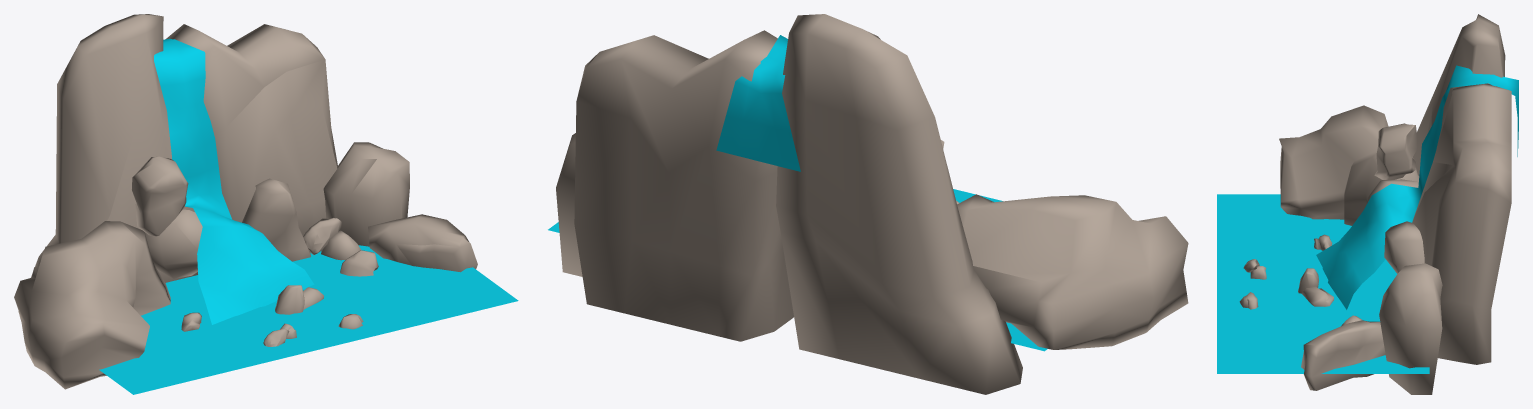
The model's file is inside_cave_water.fbx.
3 views of the same model, side by side, from view 1: azimuth 30°, elevation 25°; view 2: azimuth 150°, elevation 25°; view 3: azimuth 270°, elevation 25° (orthographic). The views are drawn at different scales.
Parts seen in each view (by area): view 1: polySurface3103, pPlane1, pPlane2; view 2: polySurface3103, pPlane2, pPlane1; view 3: polySurface3103, pPlane1, pPlane2.
Part boxes in pixels (x1=…): polySurface3103: x1=14, y1=14, x2=477, y2=389; pPlane1: x1=99, y1=245, x2=518, y2=394; pPlane2: x1=154, y1=38, x2=314, y2=324; polySurface3103: x1=556, y1=14, x2=1188, y2=394; pPlane2: x1=716, y1=35, x2=800, y2=171; pPlane1: x1=548, y1=189, x2=1047, y2=351; polySurface3103: x1=1239, y1=14, x2=1511, y2=394; pPlane1: x1=1217, y1=194, x2=1429, y2=373; pPlane2: x1=1316, y1=65, x2=1518, y2=309.
Bounding box in the file's own units: 2326 × 1406 × 1469.
